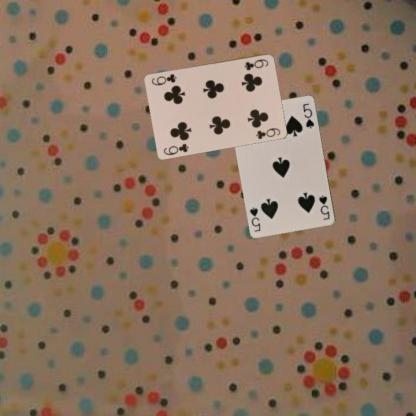5s: (317, 193, 331, 221)
6c: (241, 56, 270, 72), (161, 140, 190, 156)
